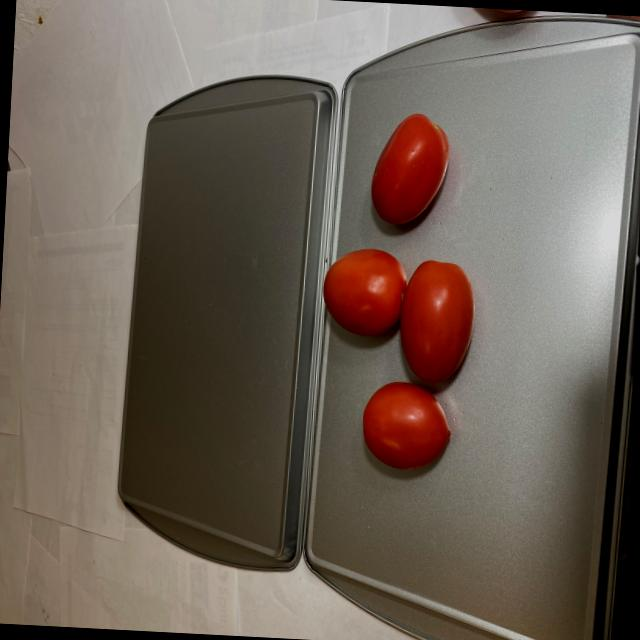tomato: (316, 106, 486, 479)
